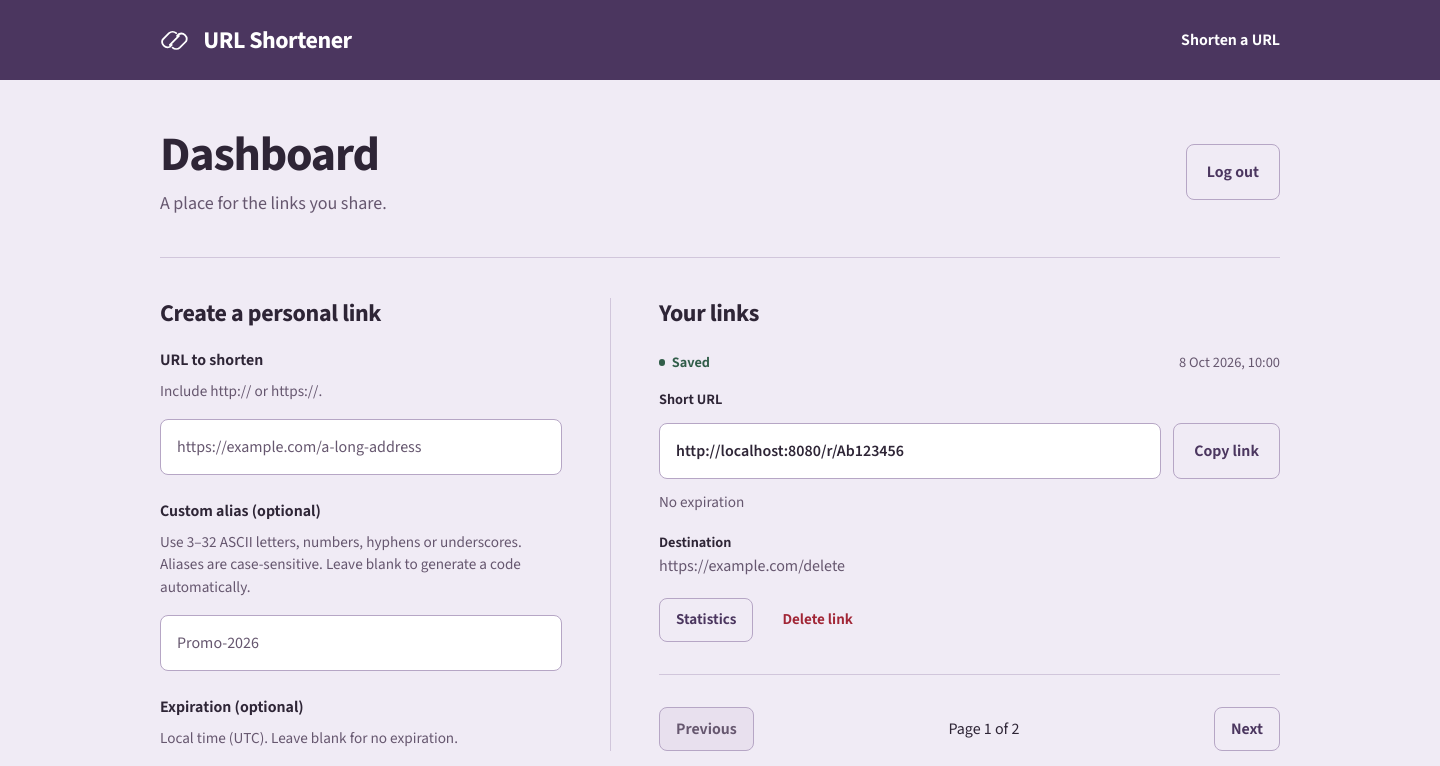
it: refreshes the list and returns to the last valid page after deletion
Expected: the text "Page 1 of 2" is shown, [948, 717, 1019, 741]
Step 1. Click the button "Next" → (1247, 729), box [1214, 707, 1280, 751]
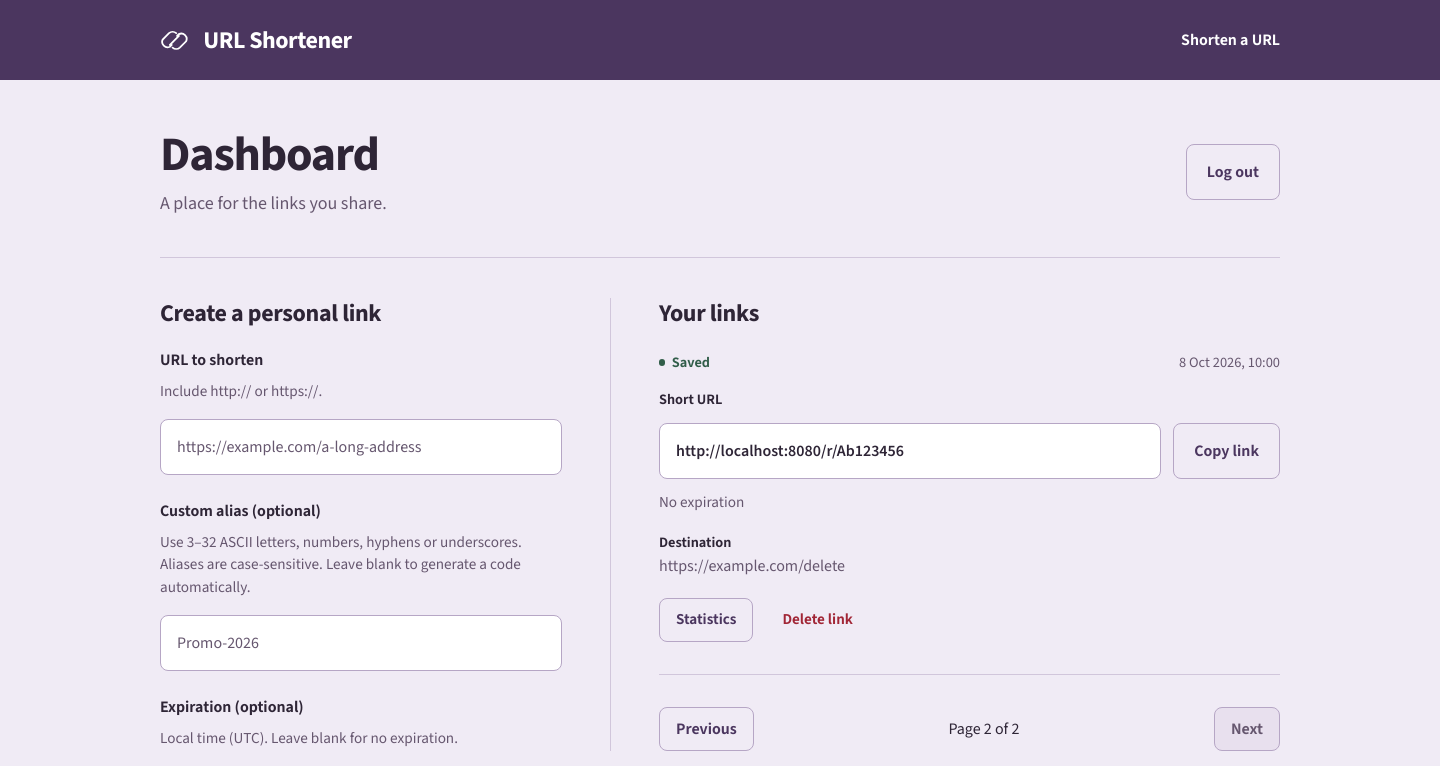
Expected: the text "Page 2 of 2" is shown, [948, 717, 1019, 741]
Step 2. Click the button "Delete link" → (818, 620), box [765, 598, 870, 642]
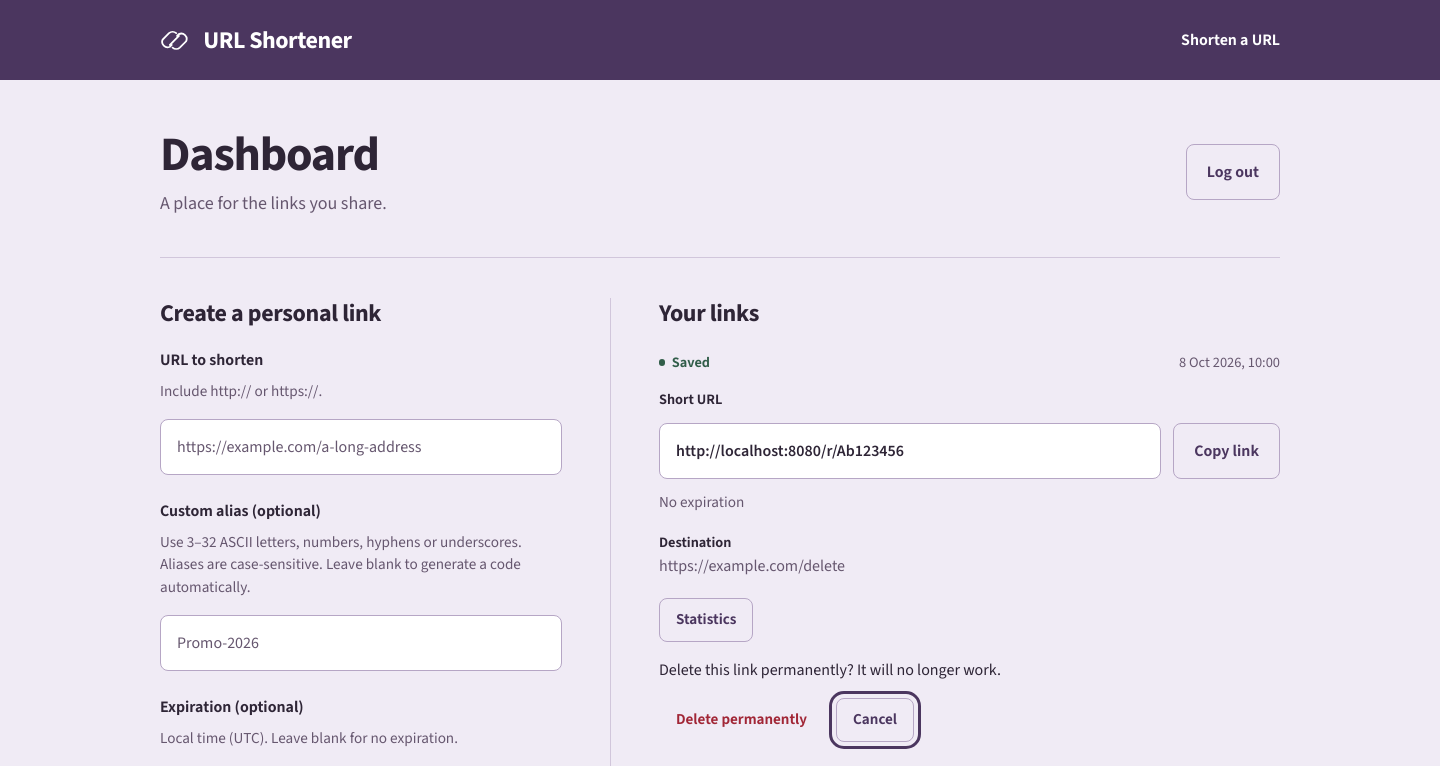
Step 3. Click the button "Delete permanently" → (742, 720), box [659, 698, 824, 742]
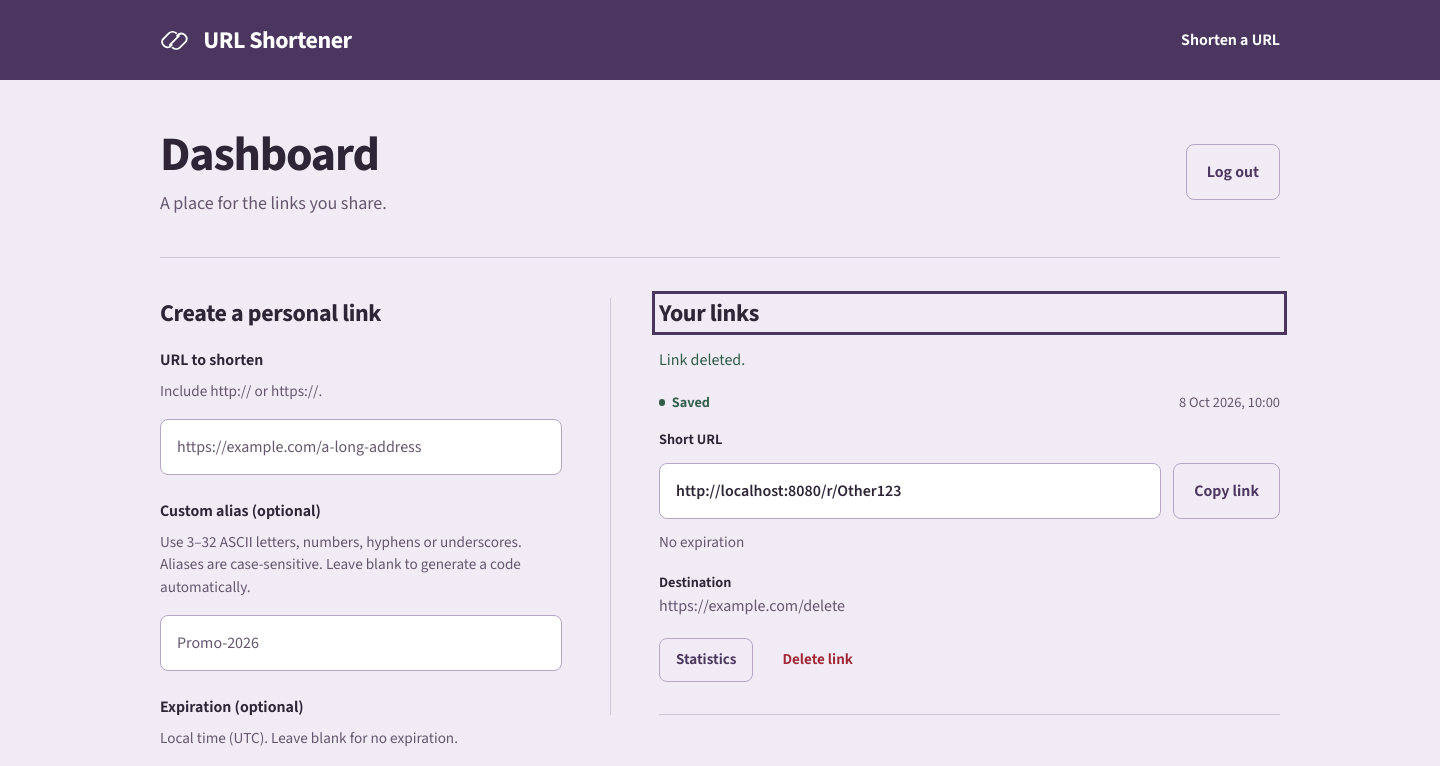
Expected: the field labelled "Short URL" holds "http://localhost:8080/r/Other123", [659, 463, 1161, 519]
